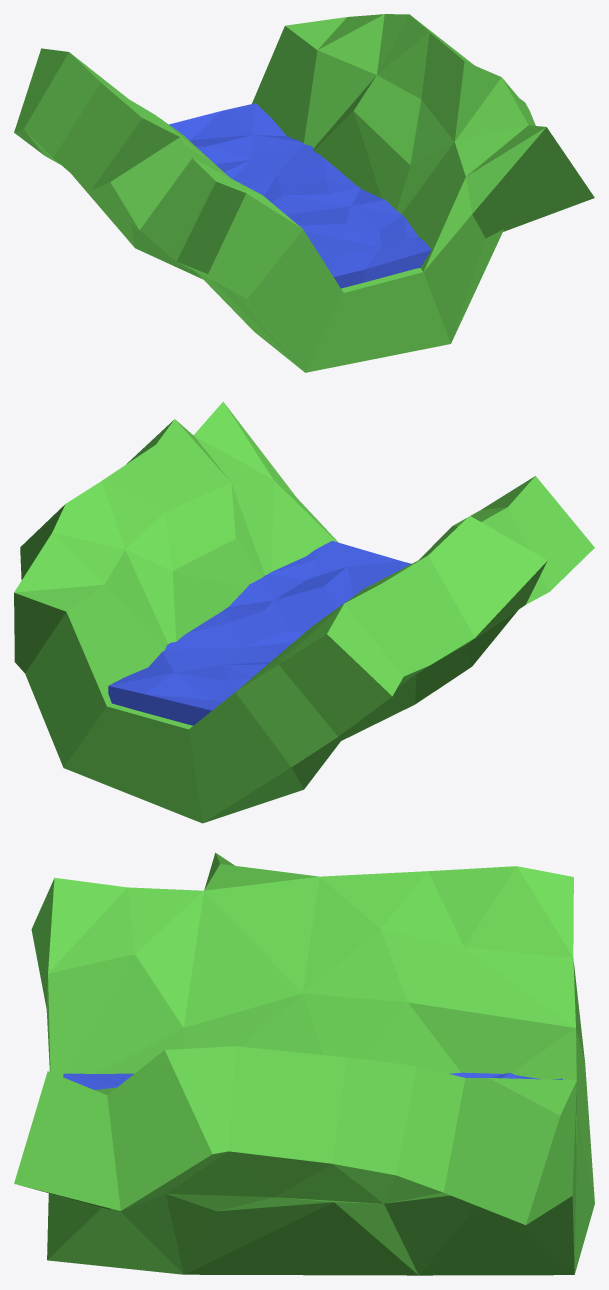
File: Rio.fbx
3 views of the same model, one above another, from view 1: azimuth 30°, elevation 25°; view 2: azimuth 150°, elevation 25°; view 3: azimuth 270°, elevation 25° (orthographic). The views are drawn at different scales.
Parts seen in each view (by area): view 1: Rio; view 2: Rio; view 3: Rio.
Boxes of the visible parts, <box> form: Rio: <box>14,14,594,372</box>; Rio: <box>14,401,594,823</box>; Rio: <box>14,852,594,1275</box>.
Size of the model in its own units: 30685 by 14589 by 27906.
